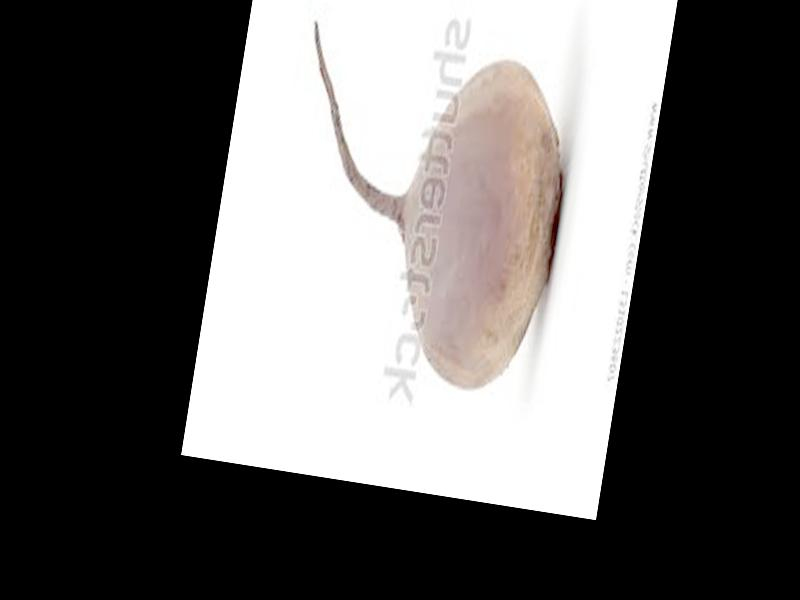Beet: (260, 21, 584, 403)
